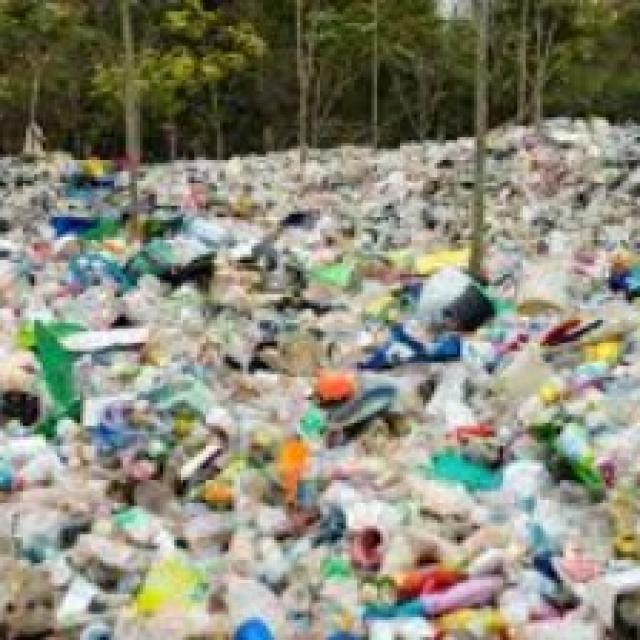heap: (35, 334, 462, 533)
plastic_bag: (233, 580, 298, 640), (425, 365, 483, 431), (1, 430, 64, 485), (116, 608, 213, 640), (504, 465, 547, 514)
